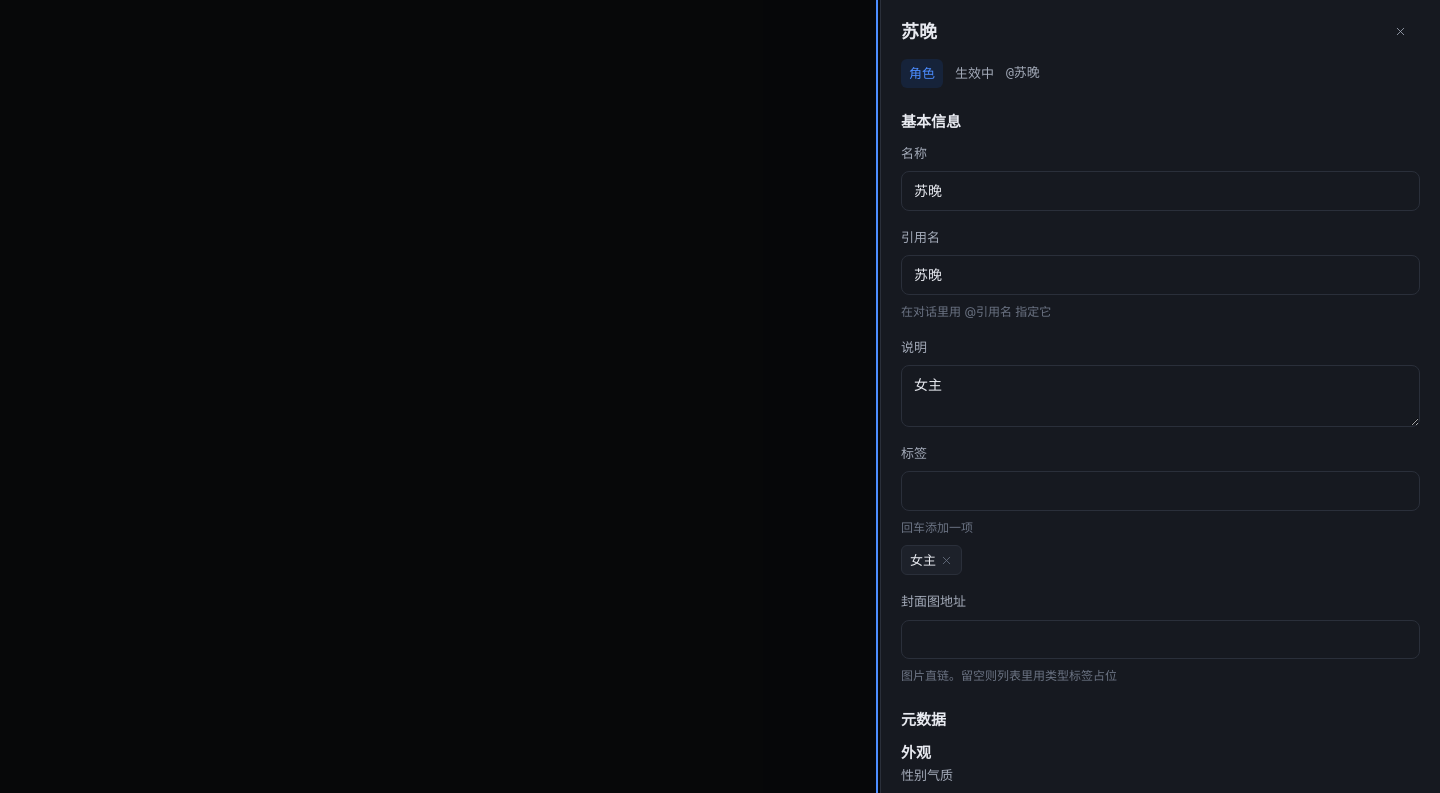
Test: AssetDetailDrawer 的保存 › 名称为空 → 不发请求，错误落在名称输入框上
Clear the field labelled "名称": [1160, 191] box [901,171,1420,211]
(page scrolled)
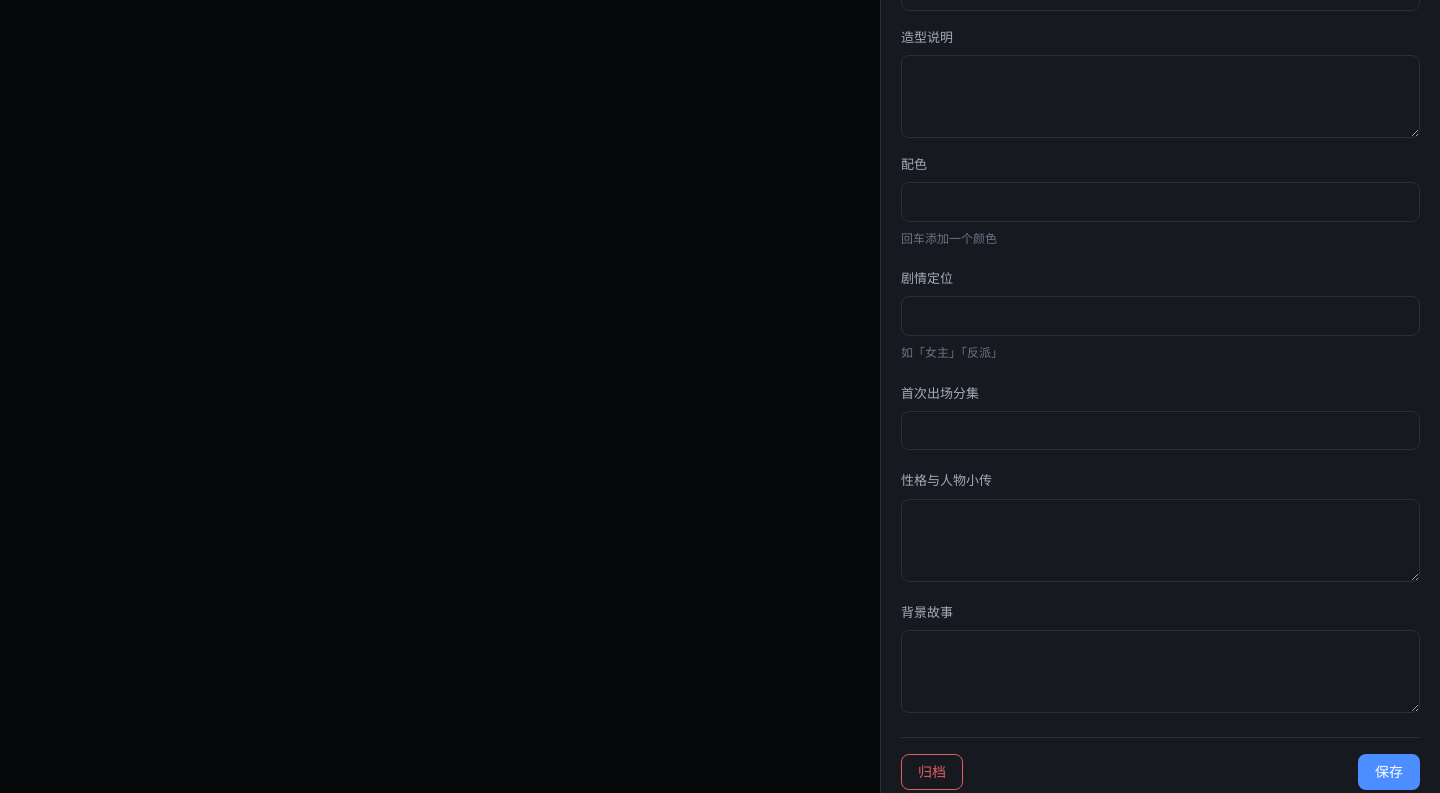
Click the button "保存": [1389, 772] box [1358,754,1420,790]
(page scrolled)
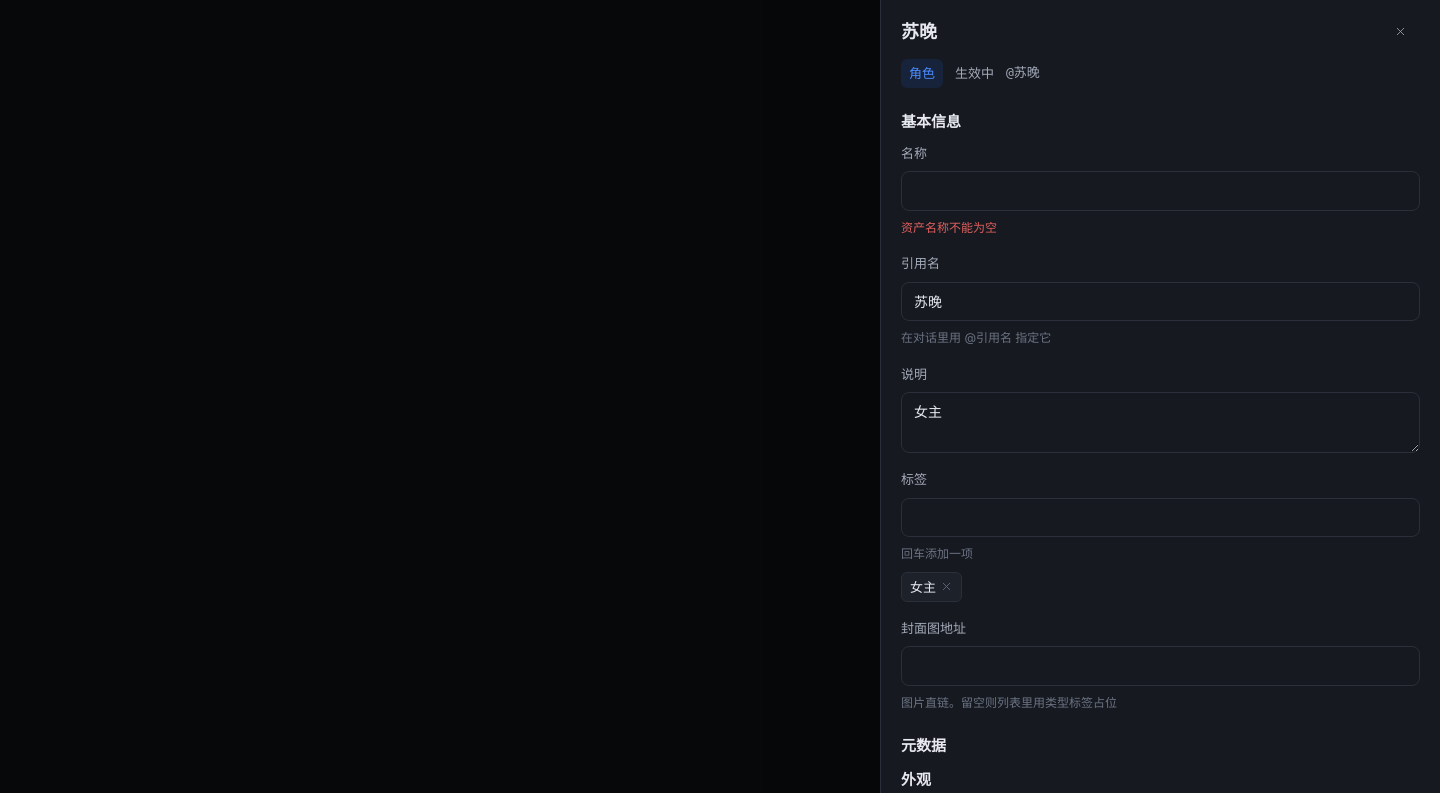
Expected: the text "资产名称不能为空" is shown, [901,220,997,235]
